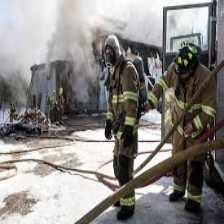smoke: (9, 1, 101, 102)
